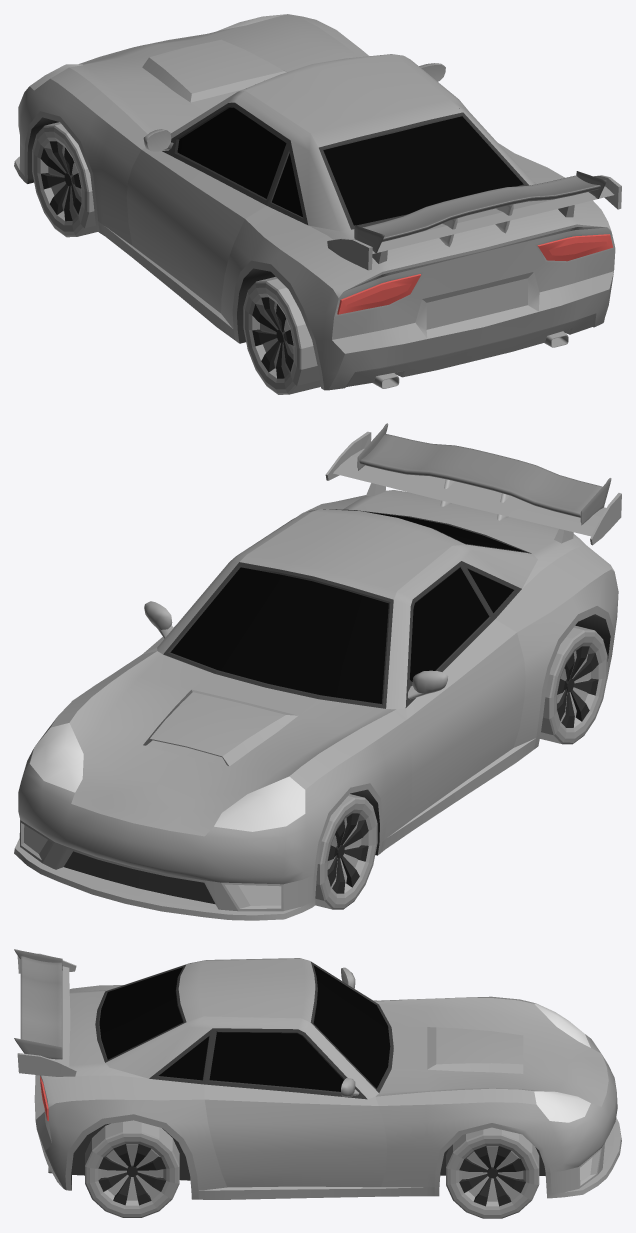
File: Racing_Car_V2_Fixed_And_Smooth (1).fbx
The picture shows the model from 3 angles, top to bottom: view 1: azimuth 30°, elevation 25°; view 2: azimuth 150°, elevation 25°; view 3: azimuth 270°, elevation 25°; orthographic projection. The views are drawn at different scales.
Visible parts, largest first — view 1: Body, Glass, haub, Roof, wheelbl3, Universal spoiler 1, WheelFL1, back light, spoilerbody, rimbl3, rimfl1, sideparts.001 (+2 smaller); view 2: Body, haub, Glass, Roof, Universal spoiler 1, front lights, spoilerbody, wheelbl3, WheelFL1, rimbl3, rimfl1, sideparts.001 (+1 smaller); view 3: Body, haub, Glass, Roof, WheelBL4, WheelFL2, Universal spoiler 1, rimbl4, rimfl2, front lights, sideparts.001, sideparts (+1 smaller).
Boxes of the visible parts, x1=… form: Body: x1=14, y1=14, x2=615, y2=390; Glass: x1=177, y1=107, x2=523, y2=225; haub: x1=69, y1=14, x2=359, y2=133; Roof: x1=239, y1=54, x2=462, y2=147; wheelbl3: x1=243, y1=276, x2=320, y2=394; Universal spoiler 1: x1=362, y1=175, x2=600, y2=241; WheelFL1: x1=32, y1=122, x2=97, y2=237; back light: x1=337, y1=234, x2=613, y2=314; spoilerbody: x1=372, y1=186, x2=614, y2=253; rimbl3: x1=252, y1=297, x2=293, y2=378; rimfl1: x1=41, y1=141, x2=81, y2=221; sideparts.001: x1=327, y1=175, x2=621, y2=270; Body: x1=14, y1=490, x2=618, y2=920; haub: x1=69, y1=651, x2=395, y2=836; Glass: x1=170, y1=510, x2=524, y2=703; Roof: x1=240, y1=509, x2=464, y2=599; Universal spoiler 1: x1=359, y1=434, x2=602, y2=517; front lights: x1=29, y1=723, x2=305, y2=831; spoilerbody: x1=333, y1=449, x2=606, y2=536; wheelbl3: x1=540, y1=625, x2=607, y2=744; WheelFL1: x1=315, y1=794, x2=377, y2=909; rimbl3: x1=557, y1=646, x2=598, y2=727; rimfl1: x1=327, y1=813, x2=368, y2=893; sideparts.001: x1=325, y1=431, x2=621, y2=545; Body: x1=34, y1=958, x2=621, y2=1199; haub: x1=376, y1=998, x2=608, y2=1106; Glass: x1=99, y1=965, x2=390, y2=1091; Roof: x1=178, y1=959, x2=315, y2=1022; WheelBL4: x1=85, y1=1120, x2=179, y2=1217; WheelFL2: x1=446, y1=1127, x2=539, y2=1218; Universal spoiler 1: x1=20, y1=956, x2=62, y2=1047; rimbl4: x1=98, y1=1144, x2=165, y2=1205; rimfl2: x1=459, y1=1146, x2=525, y2=1206; front lights: x1=534, y1=1003, x2=590, y2=1122; sideparts.001: x1=17, y1=953, x2=76, y2=1076; sideparts: x1=14, y1=949, x2=62, y2=1059.
Size of the model in its own units: 142 by 94.9 by 297.
